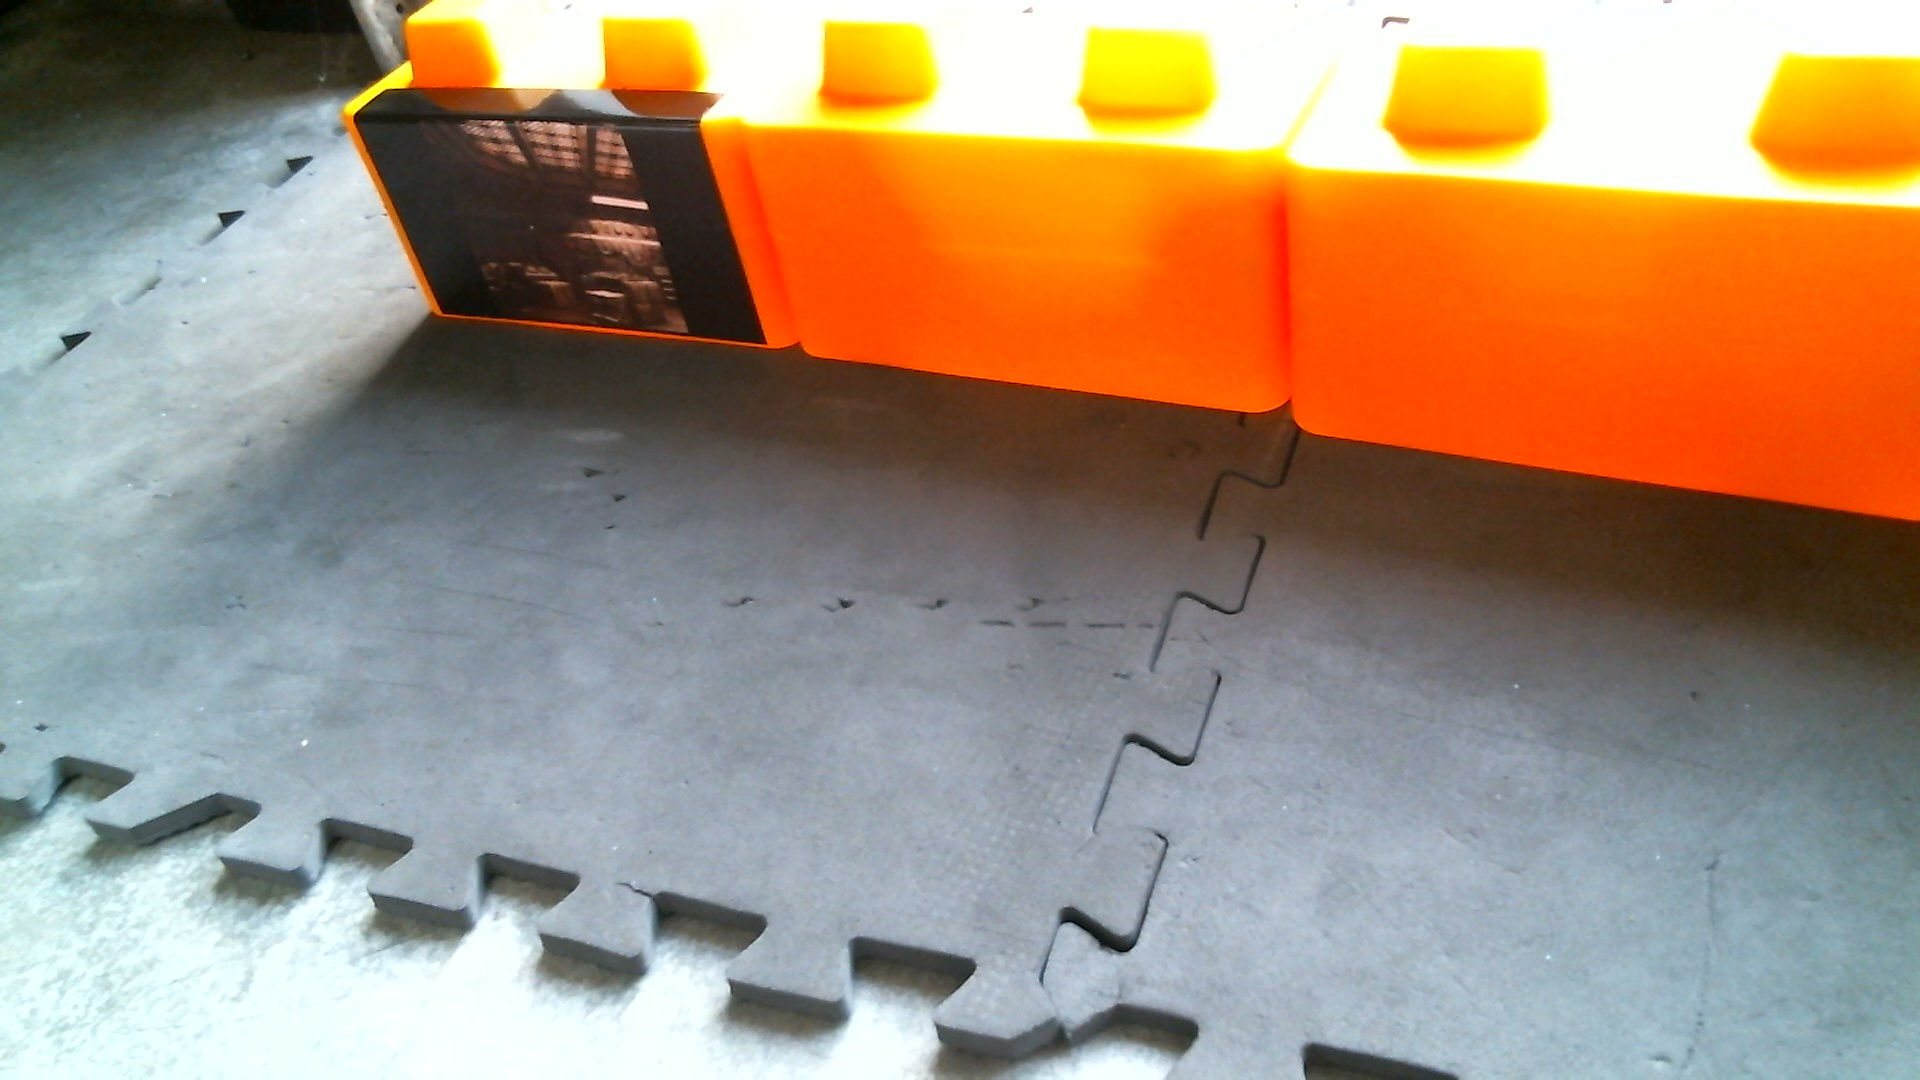left: (334, 1, 1919, 522)
